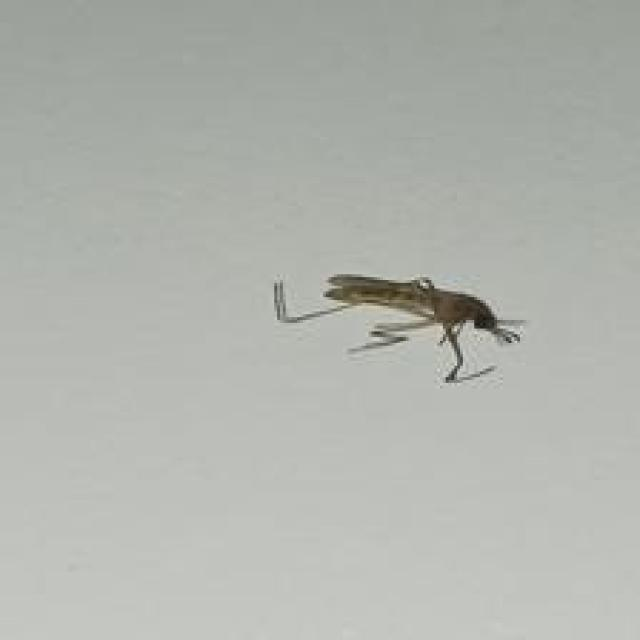Culex: (271, 271, 526, 383)
